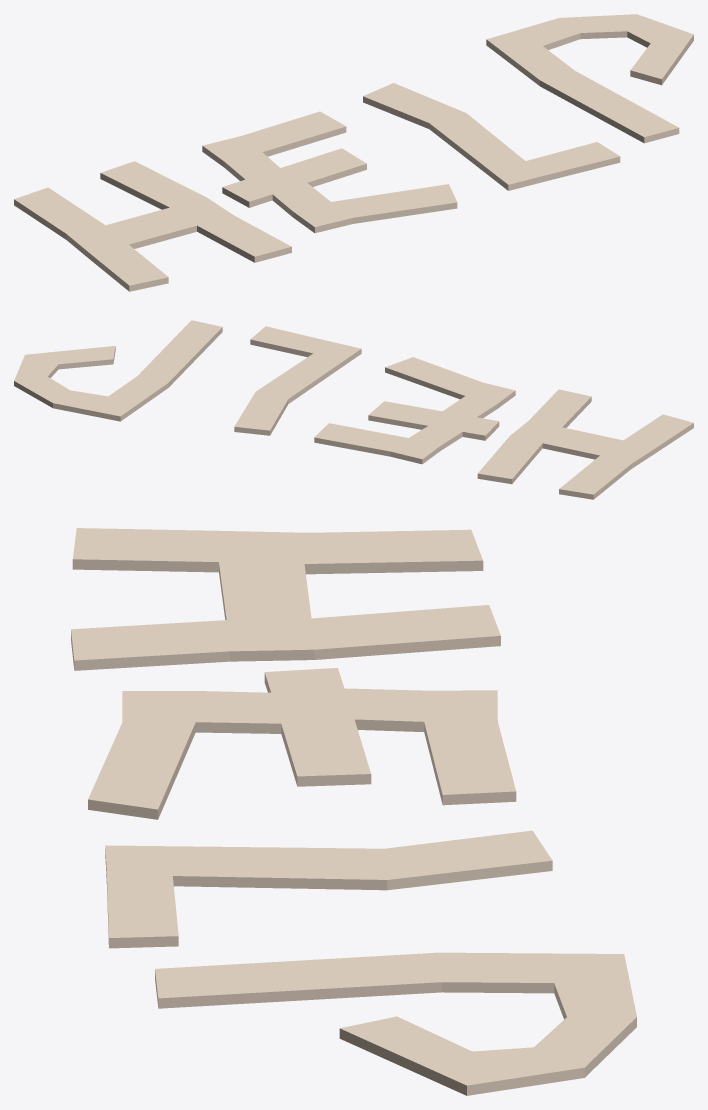
Rendered from apocalypse_help-ground-apocalypse.fbx.
3 views of the same model, one above another, from view 1: azimuth 30°, elevation 25°; view 2: azimuth 150°, elevation 25°; view 3: azimuth 270°, elevation 25° (orthographic). The views are drawn at different scales.
Visible parts, largest first — view 1: apocalypse_help_ground_apocalypse; view 2: apocalypse_help_ground_apocalypse; view 3: apocalypse_help_ground_apocalypse.
Part boxes in pixels (x1,y1,x2,y2): apocalypse_help_ground_apocalypse: (14, 14, 693, 291); apocalypse_help_ground_apocalypse: (14, 320, 693, 499); apocalypse_help_ground_apocalypse: (71, 528, 636, 1095).
Size of the model in its own units: 200 by 1.75 by 85.8.
